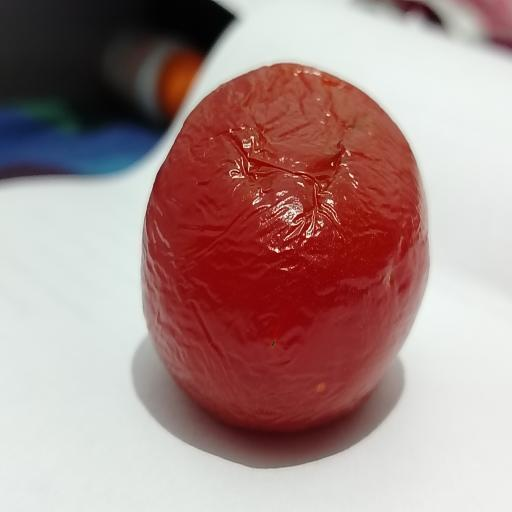spoiled: (142, 64, 429, 430)
